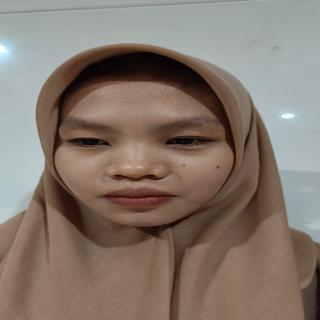Sedih: (45, 60, 242, 234)
